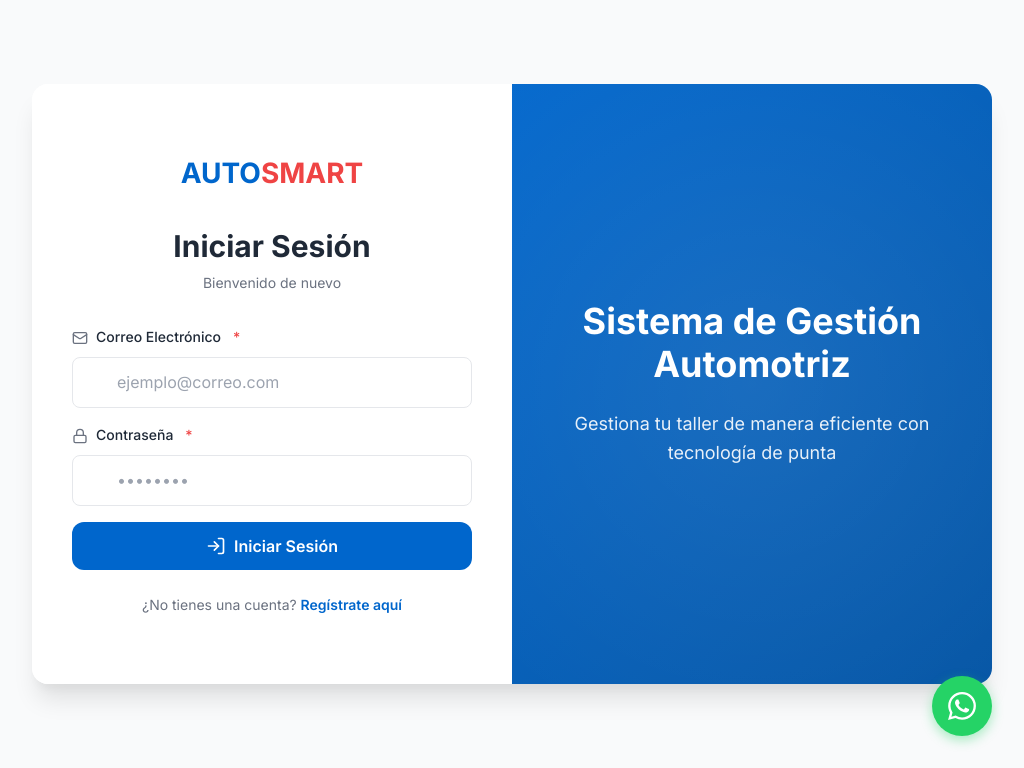
Test: Login › muestra error cuando la contraseña está vacía al enviar
Type "admin@test.com" into the field with placeholder "ejemplo@correo.com" at point(272, 383), box [72, 357, 472, 408]
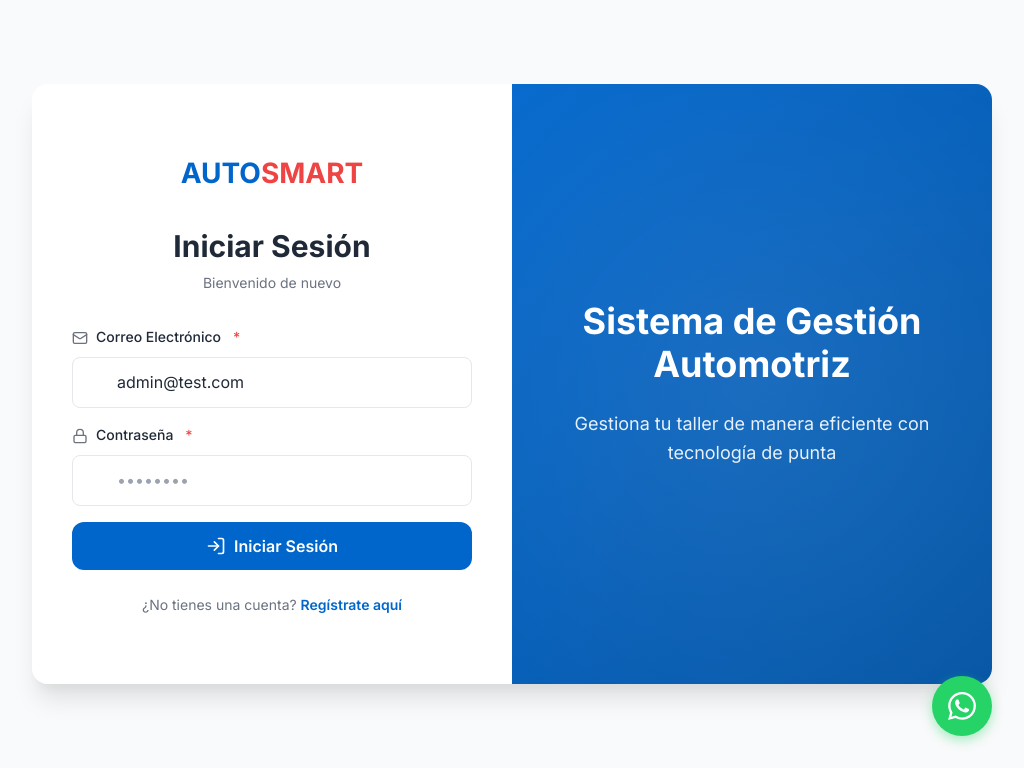
Submit the form, box [72, 326, 472, 570]
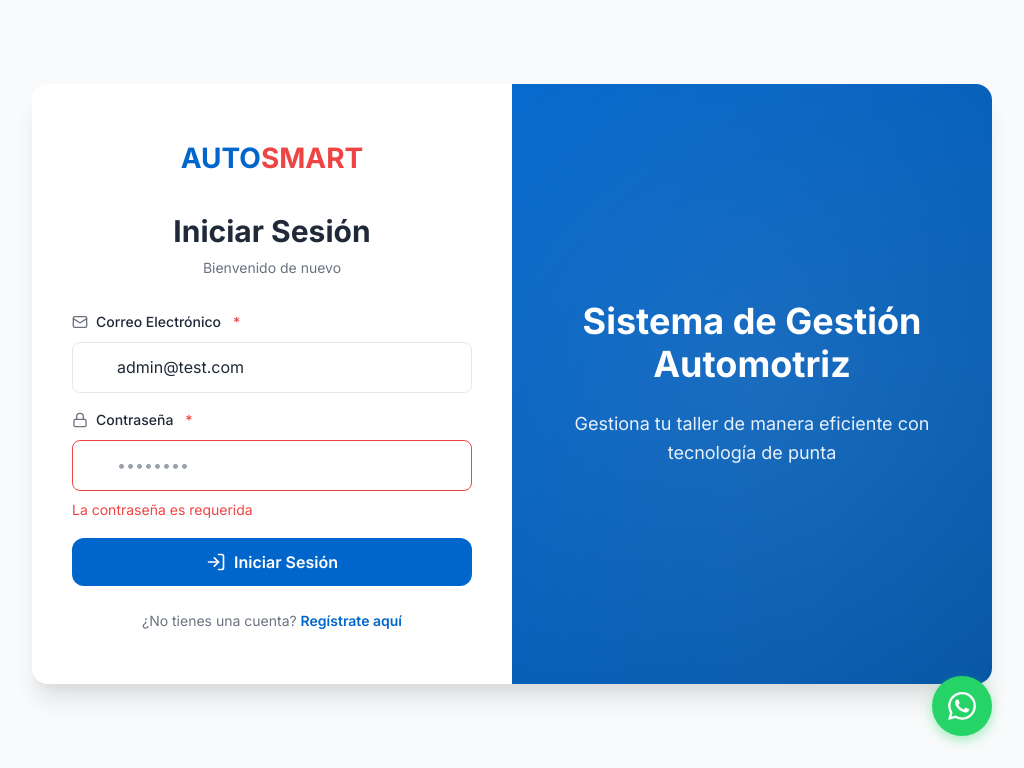
Expected: the text "La contraseña es requerida" is shown, [72, 501, 253, 518]
